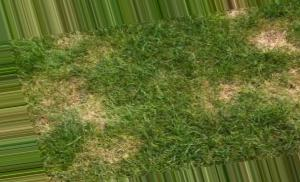patch: (36, 73, 109, 129), (208, 80, 252, 123), (89, 126, 130, 166), (66, 33, 106, 72), (259, 71, 294, 103), (252, 24, 287, 54)
